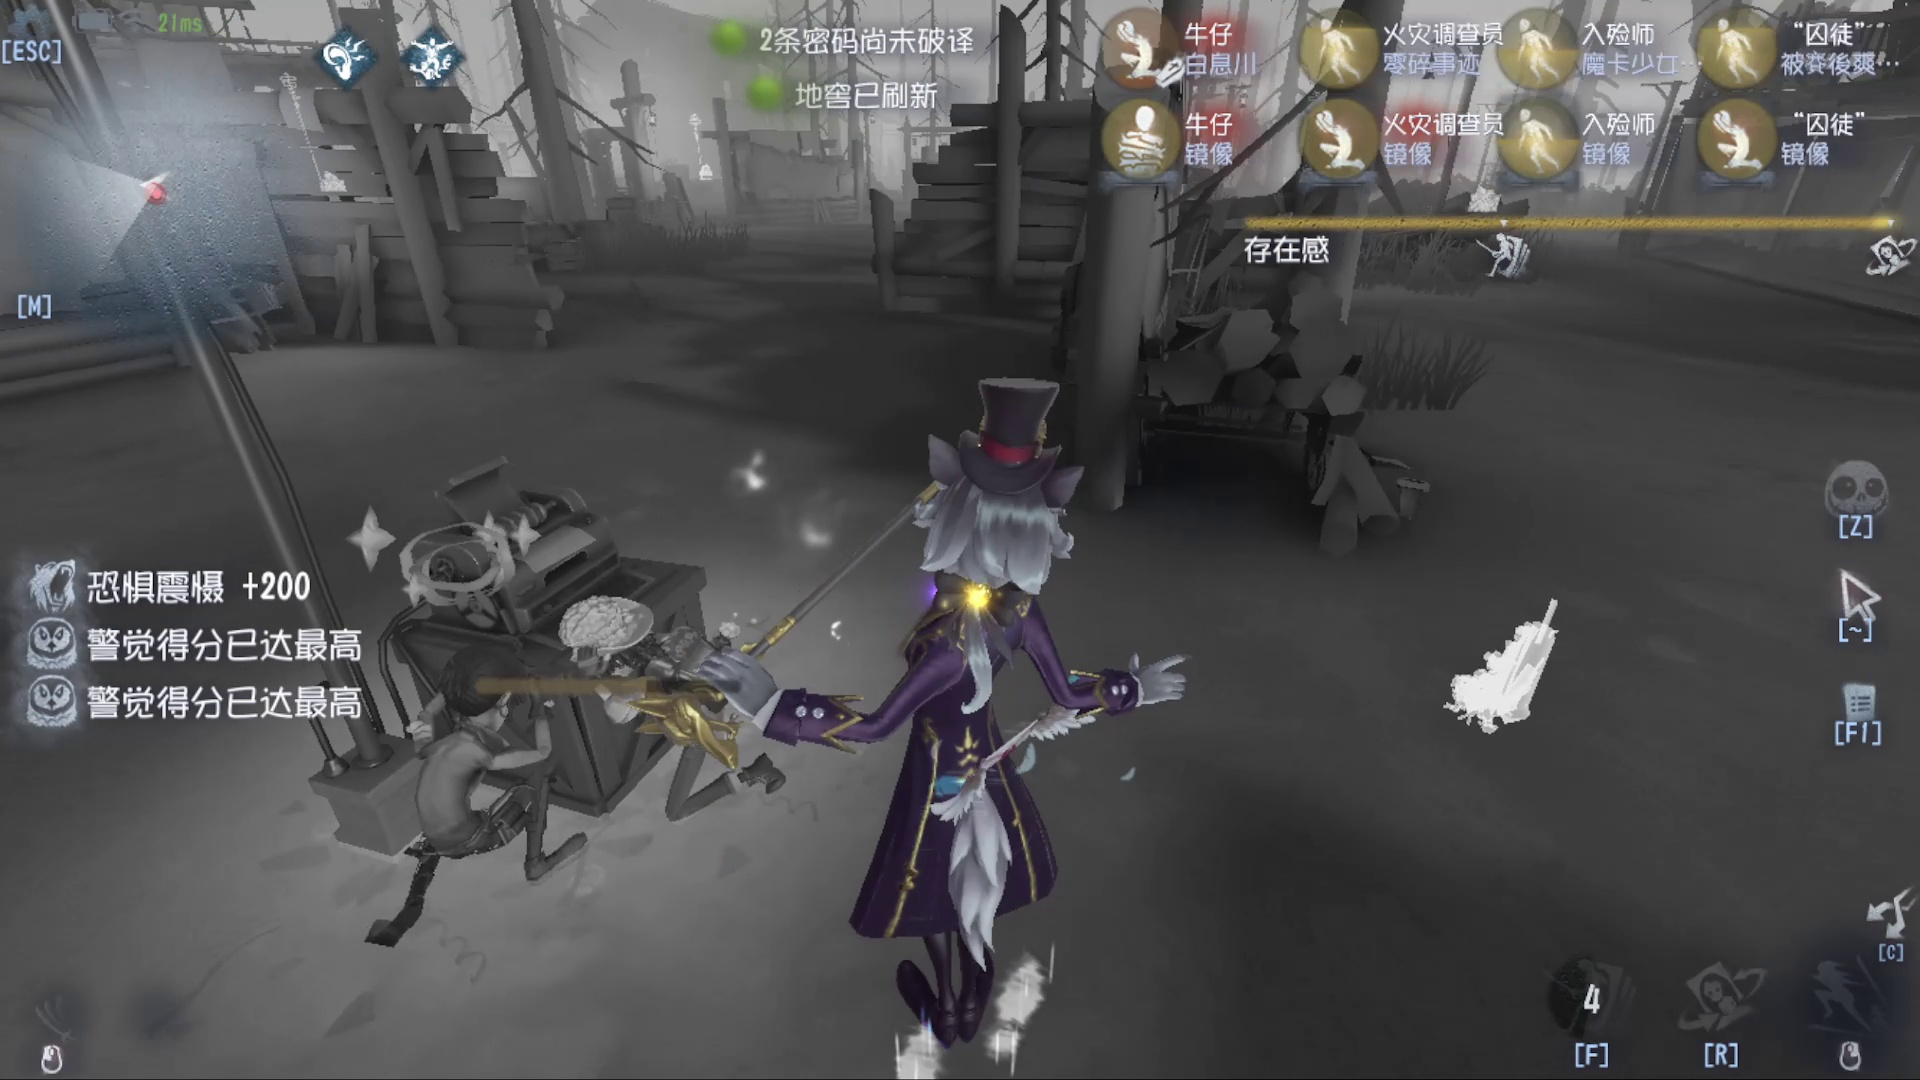密码机: (243, 401, 848, 819), (268, 65, 360, 211)
求生者: (373, 659, 607, 916), (579, 591, 766, 791)
狂欢之椅: (1432, 549, 1582, 767)
